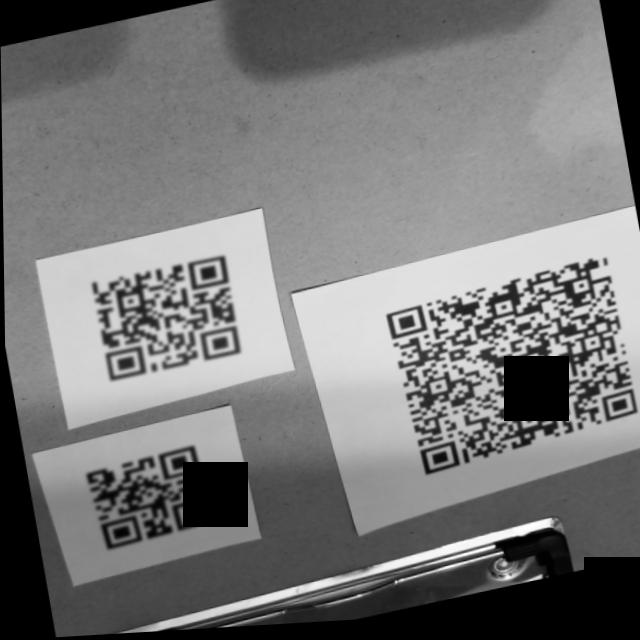QR_CODE: (371, 250, 640, 492), (75, 244, 253, 395), (74, 437, 230, 563)
